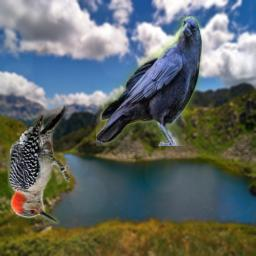Crow: (96, 16, 202, 146)
Woodpecker: (2, 99, 70, 226)
